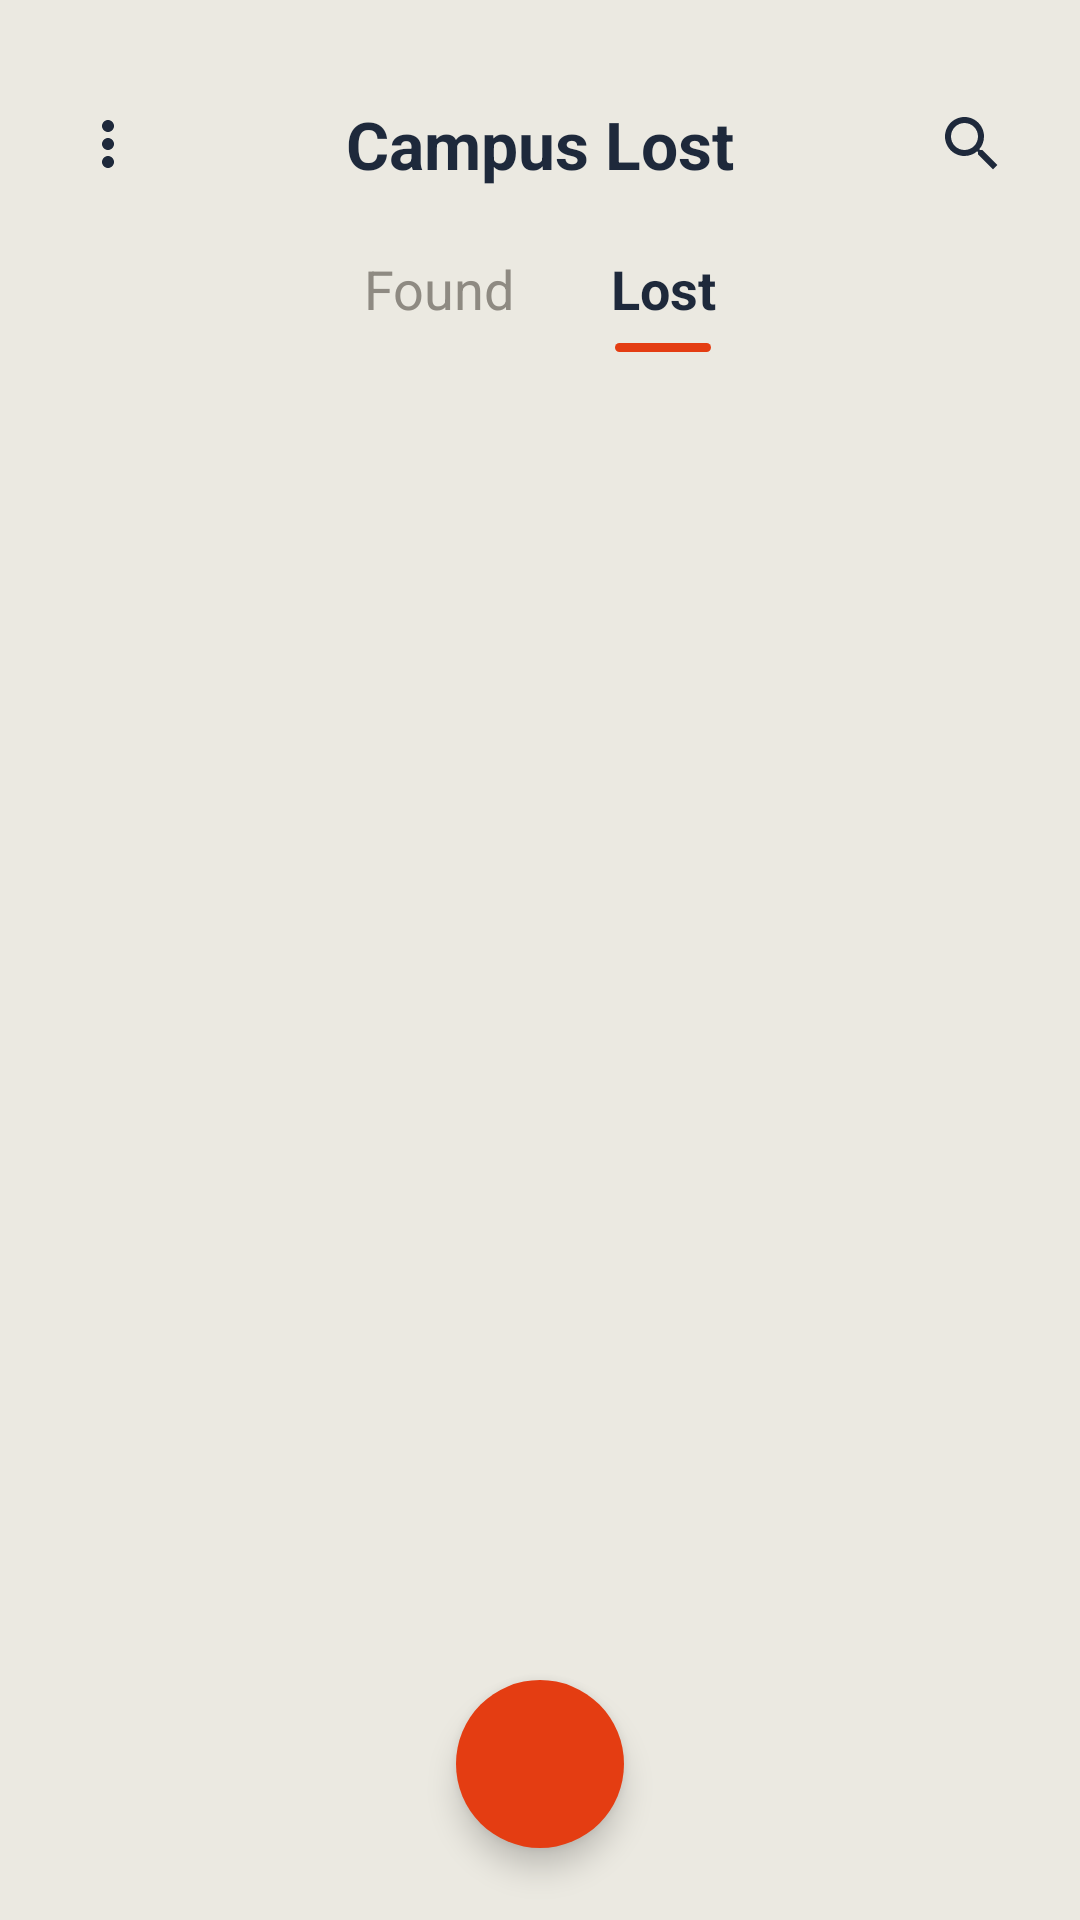

Named icons in this screenshot (1080*1920) and their bounding boxes, bbox(x1, y1, x2, y2):
Menu: bbox(102, 120, 114, 168)
Search: bbox(945, 117, 997, 169)
